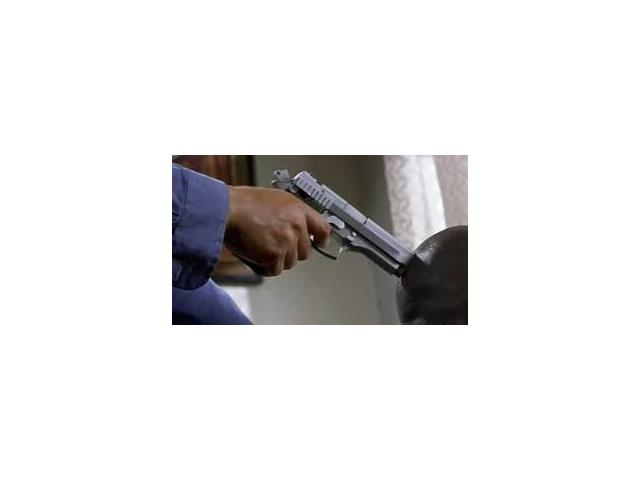pistol: (253, 171, 419, 285)
